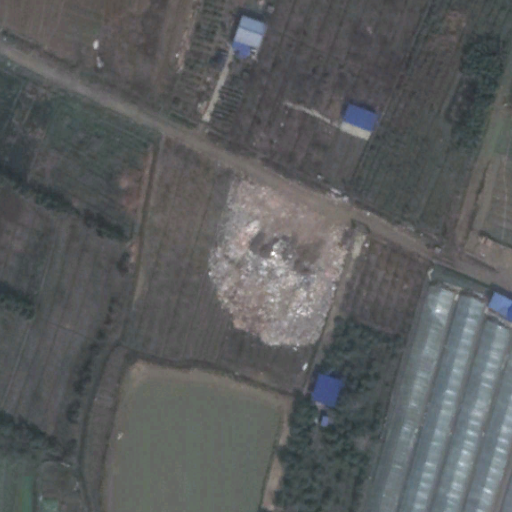msw: (214, 178, 352, 352)
